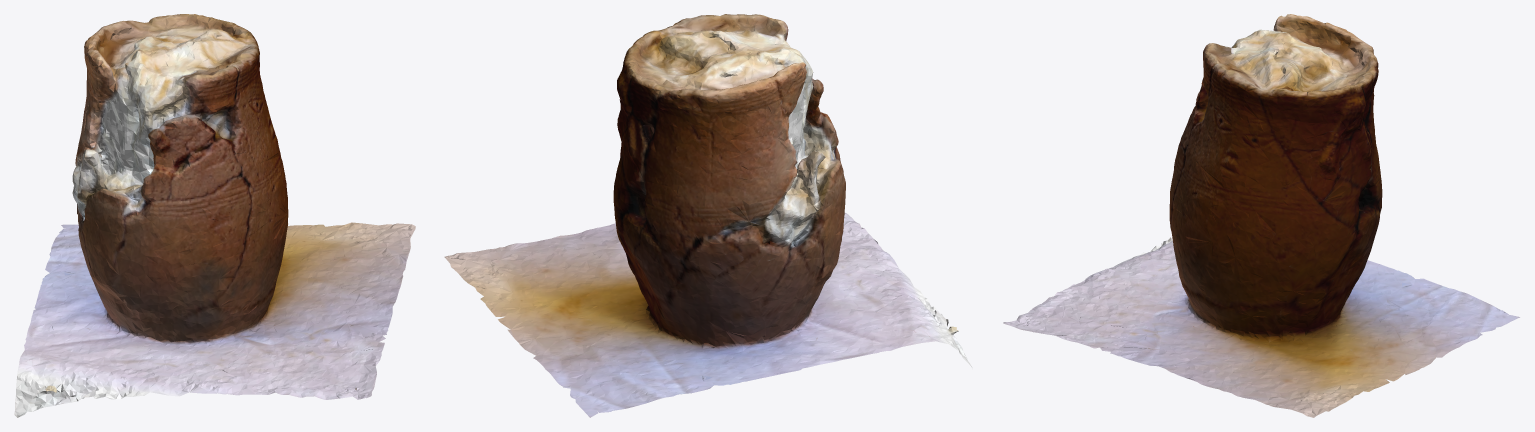
The picture shows the model from 3 angles, left to right: view 1: azimuth 30°, elevation 25°; view 2: azimuth 150°, elevation 25°; view 3: azimuth 270°, elevation 25°; orthographic projection. The views are drawn at different scales.
Bounding box in the file's own units: 0.3127 × 0.1967 × 0.3185.
Materials: 1 (1 with a texture image).
